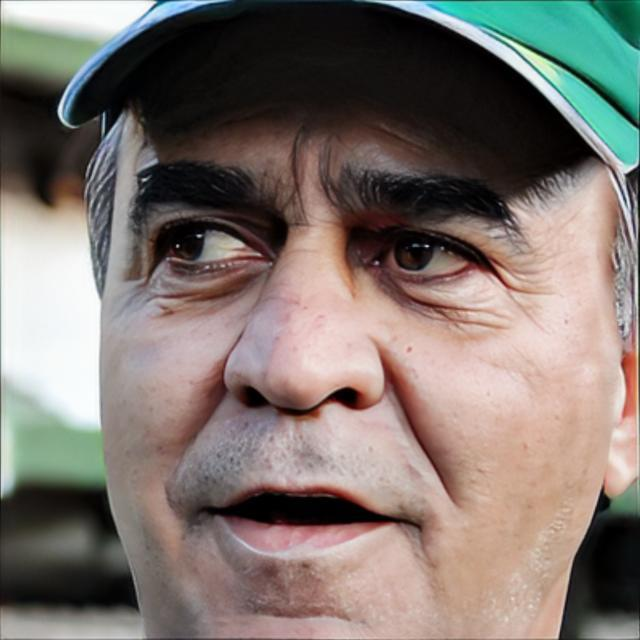happy: (95, 79, 591, 640)
